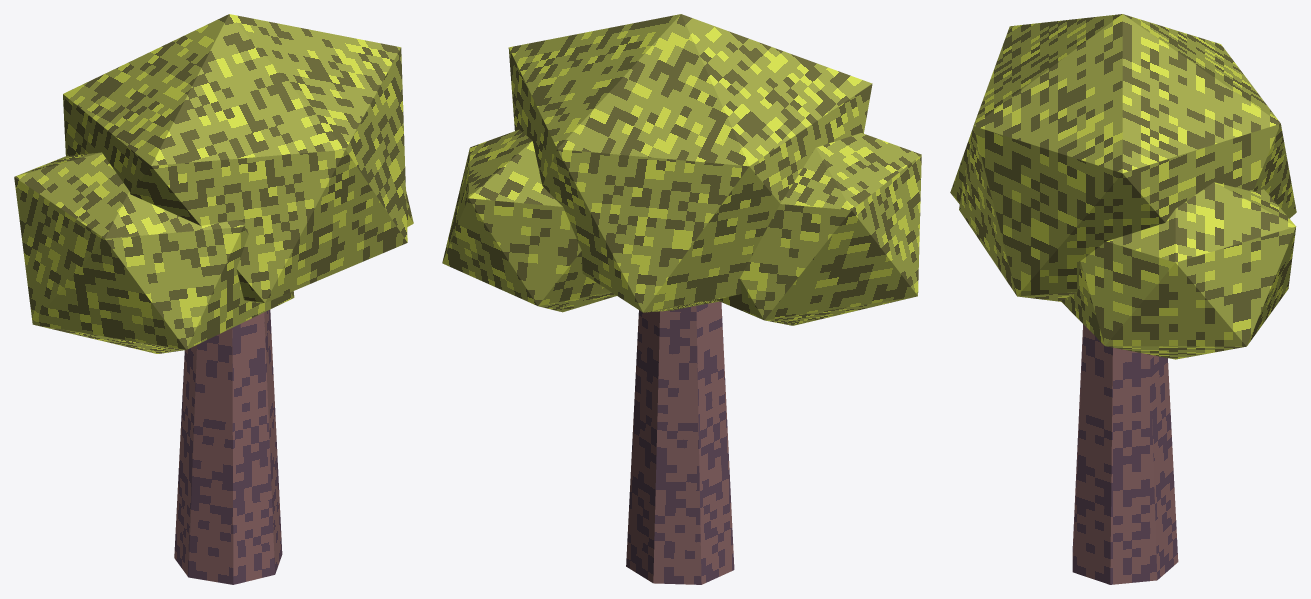
Rendered from r04_acacia.glb.
3 views of the same model, side by side, from view 1: azimuth 30°, elevation 25°; view 2: azimuth 150°, elevation 25°; view 3: azimuth 270°, elevation 25° (orthographic).
Visible parts, largest first — view 1: r04_acacia; view 2: r04_acacia; view 3: r04_acacia.
Part boxes in pixels (<box>): r04_acacia: <box>14,14,413,584</box>; r04_acacia: <box>442,14,921,584</box>; r04_acacia: <box>950,14,1296,584</box>.
Bounding box in the file's own units: 3.15 × 4.11 × 2.35.
Materials: 2 (2 with a texture image).
